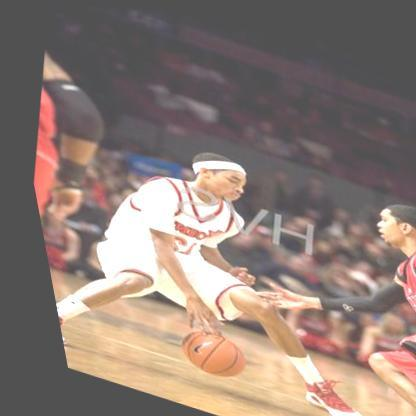basketball: (161, 321, 239, 385)
